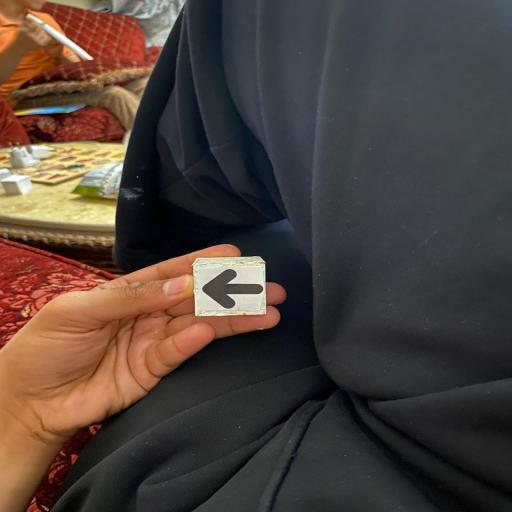Back: (191, 256, 270, 320)
